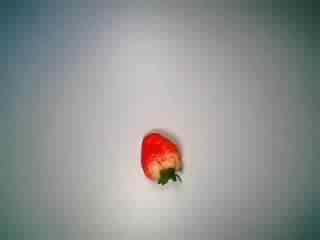strawberry: (124, 126, 192, 190)
